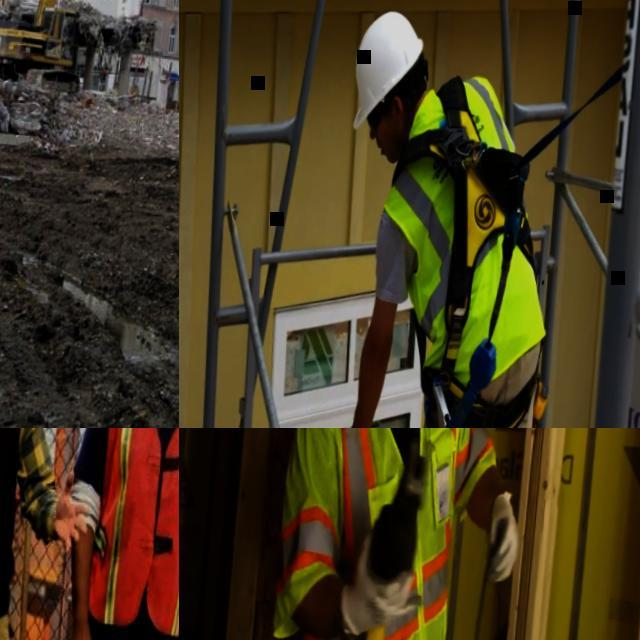helmet: (351, 8, 425, 132)
vest: (267, 428, 506, 640), (75, 428, 179, 625)
